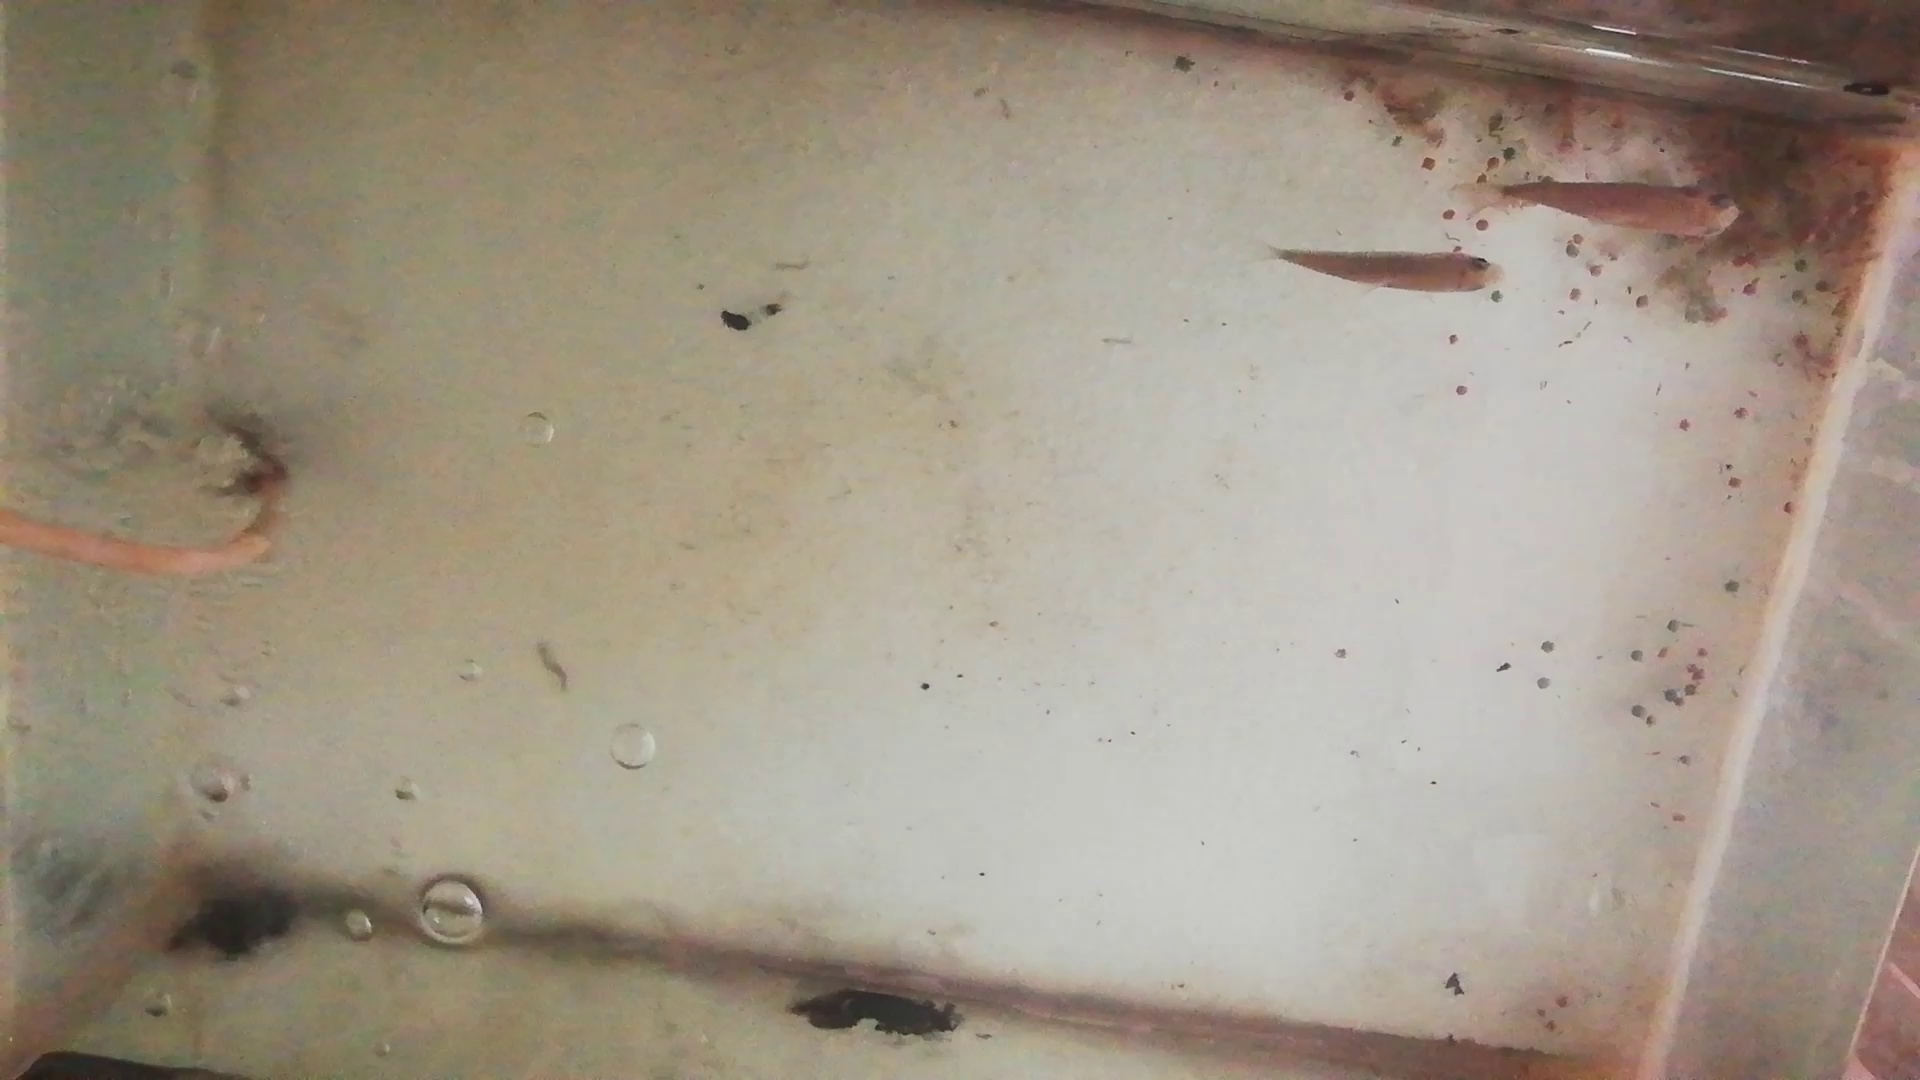fish: (1502, 182, 1750, 243), (1266, 239, 1503, 301)
